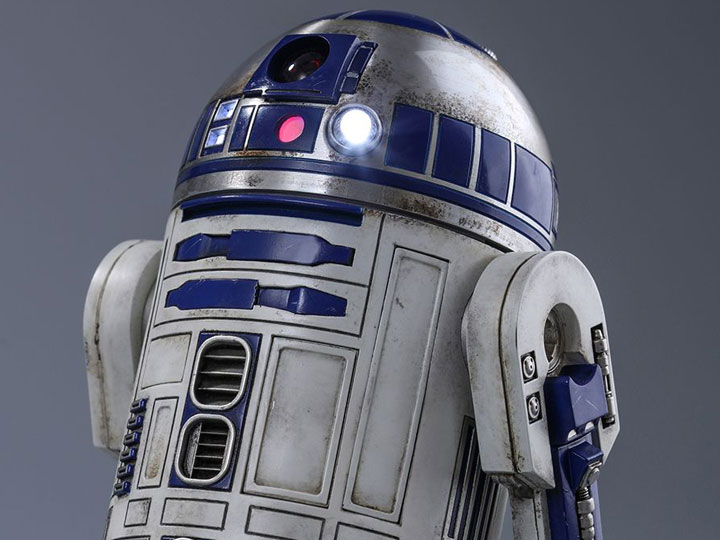r2d2: (84, 8, 623, 538)
